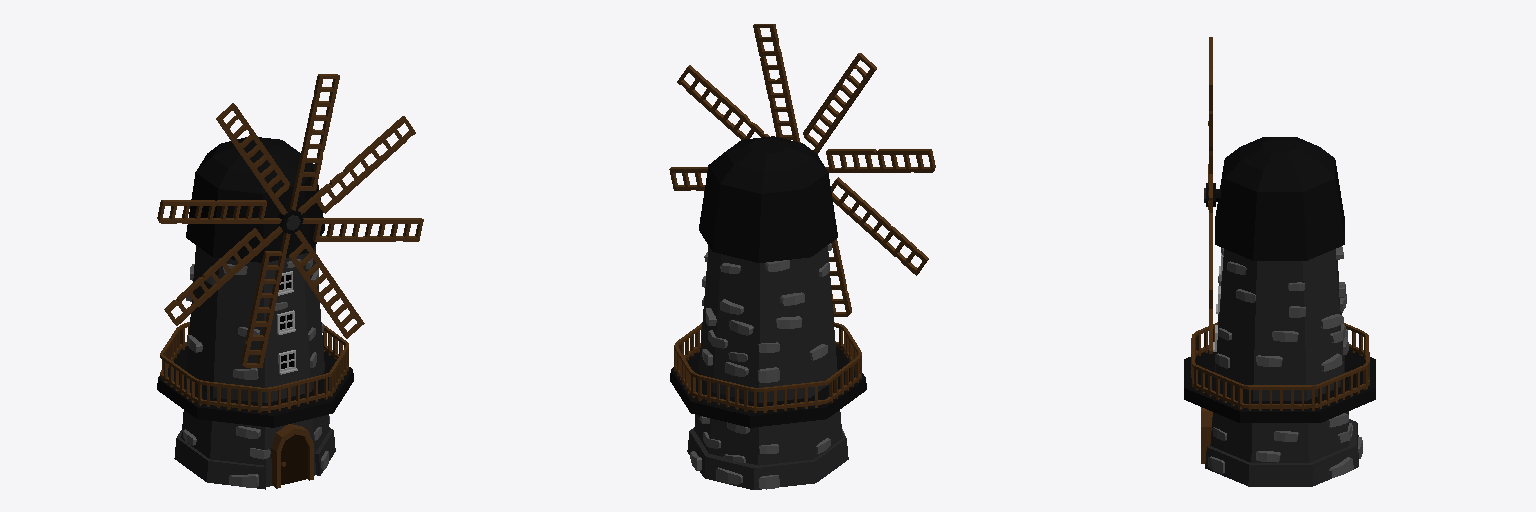
The model's file is TowerWindmill.obj.
3 renders of one model, left to right at view 1: azimuth 30°, elevation 25°; view 2: azimuth 150°, elevation 25°; view 3: azimuth 270°, elevation 25°, orthographic.
Parts seen in each view (by area): view 1: TowerWindmill_Cylinder.008, TowerWindmill_Blades_Cylinder.006; view 2: TowerWindmill_Cylinder.008, TowerWindmill_Blades_Cylinder.006; view 3: TowerWindmill_Cylinder.008, TowerWindmill_Blades_Cylinder.006.
Boxes of the visible parts, <box> form: TowerWindmill_Cylinder.008: <box>157,137,353,489</box>; TowerWindmill_Blades_Cylinder.006: <box>157,74,423,367</box>; TowerWindmill_Cylinder.008: <box>670,136,866,489</box>; TowerWindmill_Blades_Cylinder.006: <box>669,24,935,316</box>; TowerWindmill_Cylinder.008: <box>1184,137,1375,486</box>; TowerWindmill_Blades_Cylinder.006: <box>1208,37,1212,353</box>.
Bounding box in the file's own units: 7.92 × 11.41 × 4.99.